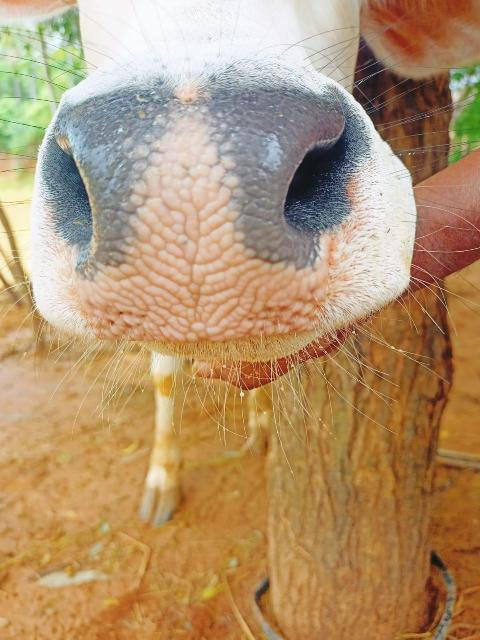Muzzle: (72, 105, 296, 331)
